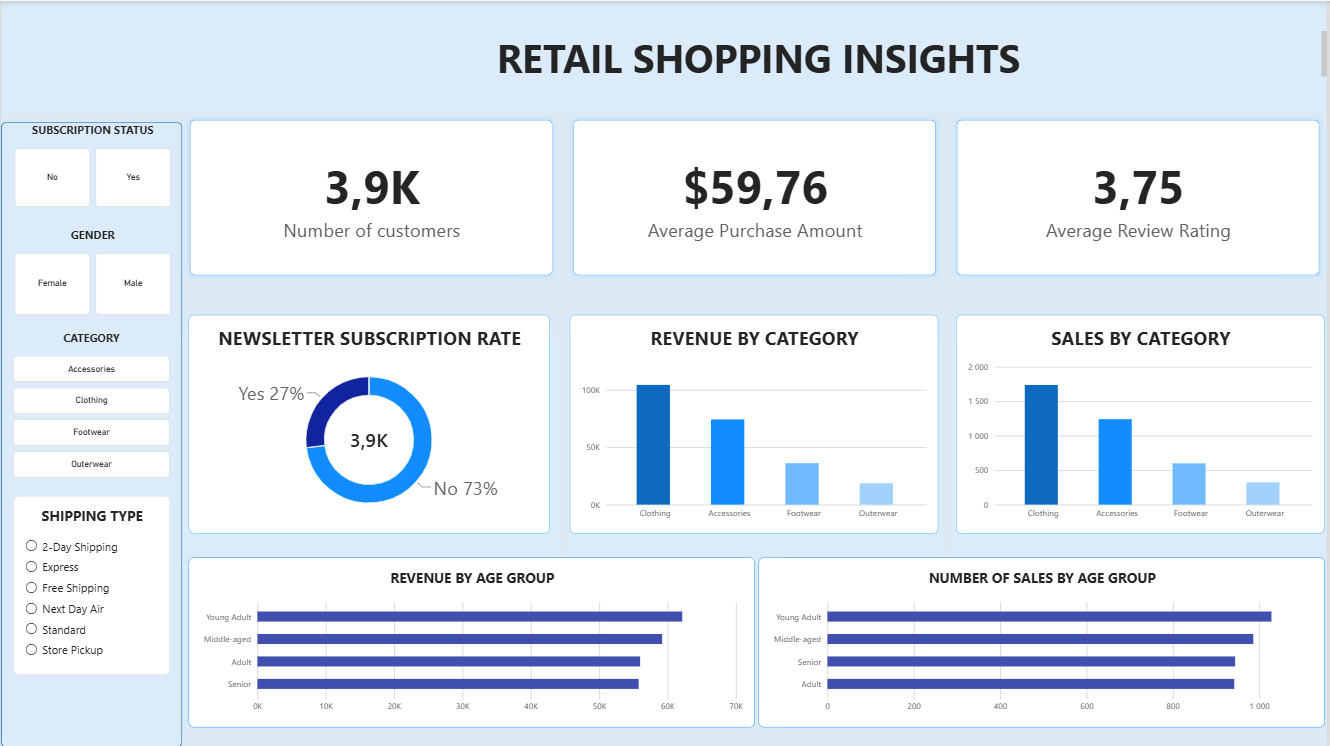

The dashboard page shown, as its layout file describes it:
{"tool":"powerbi","page":{"name":"Page 1","canvas":[1920,1080],"ordinal":0},"visuals":[{"type":"cardVisual","fields":{"Data":["customer customer.Number of customers","customer customer.Average Purchase Amount","customer customer.Average Review Rating"]},"box":[262.4,161.1,1657.6,247.9],"z":0},{"type":"shape","box":[0,0,1920.1,161.1],"z":1000},{"type":"textbox","box":[280.5,43.4,1639.6,70.6],"z":2000},{"type":"shape","box":[262.4,475.9,541.1,356.5],"z":3000},{"type":"donutChart","title":"NEWSLETTER SUBSCRIPTION RATE","fields":{"Category":["customer customer.subscription_status"],"Y":["CountNonNull(customer customer.customer_id)"]},"box":[271.4,454.2,523,316.7],"z":4000},{"type":"shape","box":[819.8,475.9,541.1,356.5],"z":5000},{"type":"shape","box":[1379,475.9,541.1,356.5],"z":6000},{"type":"clusteredColumnChart","title":"REVENUE BY CATEGORY","fields":{"Category":["customer customer.category"],"Y":["Sum(customer customer.purchase_amount)"]},"box":[823.4,454.2,533.8,316.7],"z":7000},{"type":"clusteredColumnChart","title":"SALES BY CATEGORY","fields":{"Category":["customer customer.category"],"Y":["CountNonNull(customer customer.customer_id)"]},"box":[1382.6,454.2,533.8,316.7],"z":8000},{"type":"shape","box":[0,175.5,262.4,904.8],"z":9000},{"type":"advancedSlicerVisual","title":"SUBSCRIPTION STATUS","fields":{"Values":["customer customer.subscription_status"]},"box":[19.9,175.5,226.2,123.1],"z":10000},{"type":"advancedSlicerVisual","title":"GENDER","fields":{"Values":["customer customer.gender"]},"box":[19.9,327.5,226.2,126.7],"z":11000},{"type":"advancedSlicerVisual","title":"CATEGORY","fields":{"Values":["customer customer.category"]},"box":[18.1,475.9,226.2,217.2],"z":12000},{"type":"listSlicer","title":"SHIPPING TYPE","fields":{"Values":["customer customer.shipping_type"]},"box":[18.1,716.6,226.2,258.8],"z":13000},{"type":"shape","box":[271.4,805.3,819.8,246.1],"z":14000},{"type":"shape","box":[1123.8,805.3,792.6,246.1],"z":15000},{"type":"clusteredBarChart","title":"REVENUE BY AGE GROUP","fields":{"Category":["customer customer.age_group"],"Y":["Sum(customer customer.purchase_amount)"]},"box":[271.4,805.3,819.8,246.1],"z":16000},{"type":"clusteredBarChart","title":"NUMBER OF SALES BY AGE GROUP","fields":{"Category":["customer customer.age_group"],"Y":["CountNonNull(customer customer.customer_id)"]},"box":[1096.7,805.3,819.8,246.1],"z":16001}]}

Visuals, with their boxes in screenshot pixels (x1, y1, x2, y2), scaled from the page's 1920x1080 canvas onto the 1330x746 screenshot:
cardVisual - customer customer.Number of customers x customer customer.Average Purchase Amount: (182, 111, 1329, 283)
shape: (0, 0, 1329, 111)
textbox: (194, 30, 1329, 79)
shape: (182, 329, 557, 575)
"NEWSLETTER SUBSCRIPTION RATE" donutChart: (188, 314, 550, 532)
shape: (568, 329, 943, 575)
shape: (955, 329, 1329, 575)
"REVENUE BY CATEGORY" clusteredColumnChart: (570, 314, 940, 532)
"SALES BY CATEGORY" clusteredColumnChart: (958, 314, 1328, 532)
shape: (0, 121, 182, 745)
"SUBSCRIPTION STATUS" advancedSlicerVisual: (14, 121, 170, 206)
"GENDER" advancedSlicerVisual: (14, 226, 170, 314)
"CATEGORY" advancedSlicerVisual: (13, 329, 169, 479)
"SHIPPING TYPE" listSlicer: (13, 495, 169, 674)
shape: (188, 556, 756, 726)
shape: (778, 556, 1328, 726)
"REVENUE BY AGE GROUP" clusteredBarChart: (188, 556, 756, 726)
"NUMBER OF SALES BY AGE GROUP" clusteredBarChart: (760, 556, 1328, 726)
